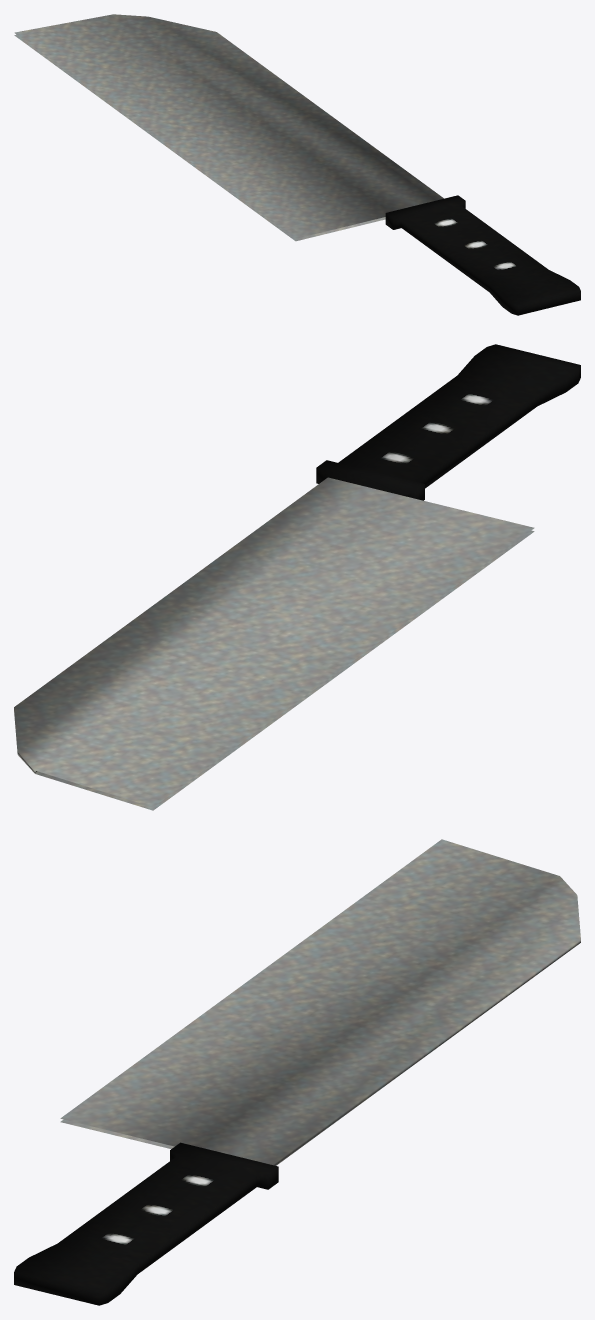
The model's file is knife_002.glb.
The picture shows the model from 3 angles, top to bottom: view 1: azimuth 30°, elevation 25°; view 2: azimuth 150°, elevation 25°; view 3: azimuth 330°, elevation 25°; orthographic projection. The views are drawn at different scales.
Parts seen in each view (by area): view 1: knife.002; view 2: knife.002; view 3: knife.002.
Part boxes in pixels (left/top/right/bottom): knife.002: left=14, top=14, right=580, bottom=315; knife.002: left=14, top=344, right=580, bottom=810; knife.002: left=14, top=839, right=580, bottom=1305.
Bounding box in the file's own units: 0.0848 × 0.00582 × 0.3718.
Materials: 1 (1 with a texture image).
